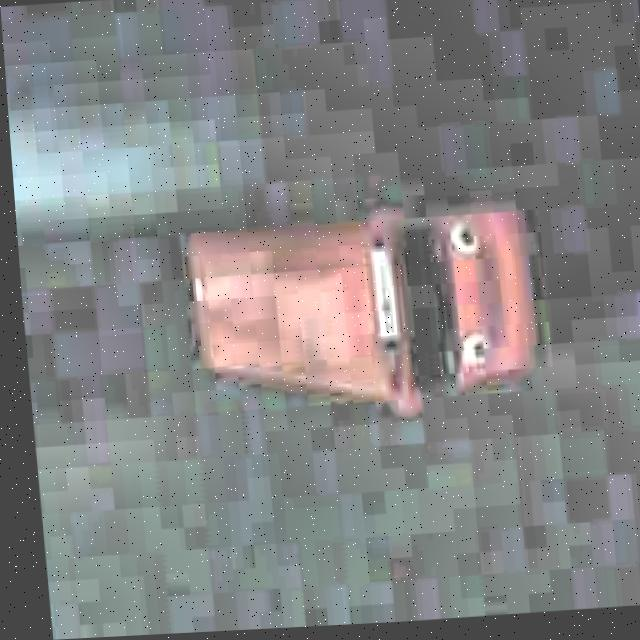bus: (169, 185, 572, 441)
